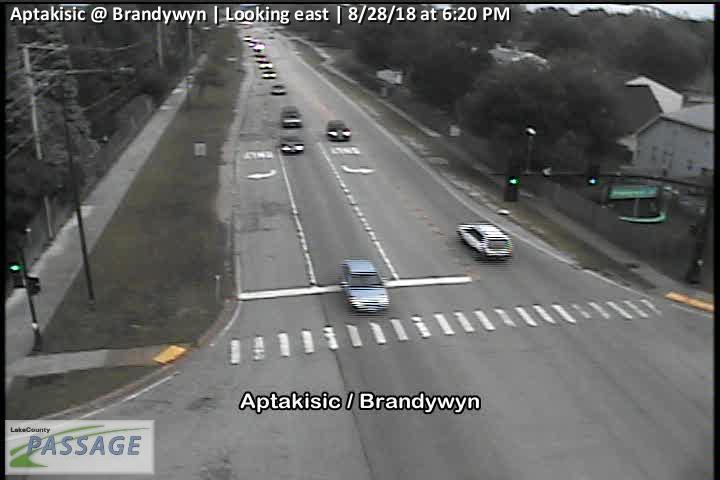Sedan: (339, 257, 390, 312), (457, 220, 513, 260), (278, 129, 305, 154), (326, 119, 351, 142), (280, 104, 302, 128)
